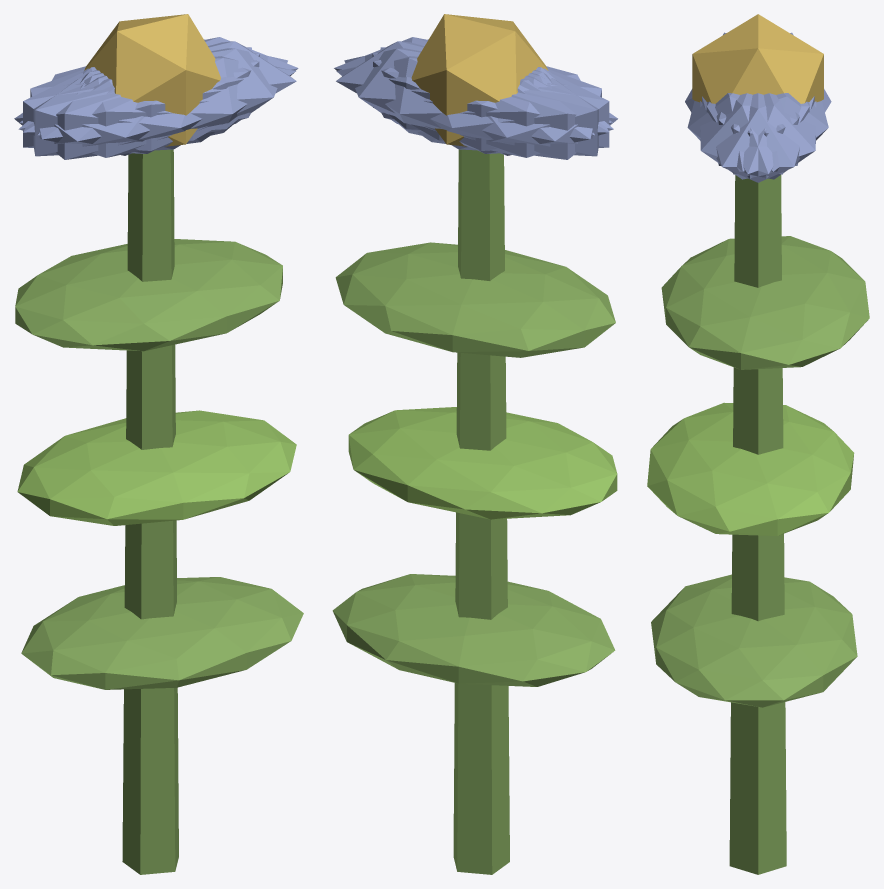
File: polyscias-fruticosa.glb
3 views of the same model, side by side, from view 1: azimuth 30°, elevation 25°; view 2: azimuth 150°, elevation 25°; view 3: azimuth 270°, elevation 25° (orthographic).
Visible parts, largest first — view 1: stem, leaf1, leaf0, leaf2, center, petal1, petal6, petal2, petal5, petal7, petal0, petal4 (+2 smaller); view 2: stem, leaf2, leaf0, leaf1, center, petal8, petal3, petal7, petal4, petal2, petal0, petal5 (+2 smaller); view 3: stem, leaf2, leaf0, leaf1, center, petal0, petal5, petal4, petal1, petal8.
Part boxes in pixels (box(x1,y1,x2,y2)): stem: box(122, 149, 178, 874); leaf1: box(17, 410, 296, 525); leaf0: box(21, 577, 303, 689); leaf2: box(15, 239, 282, 351); center: box(84, 14, 220, 146); petal1: box(18, 56, 295, 157); petal6: box(14, 68, 214, 159); petal2: box(33, 47, 251, 156); petal5: box(37, 48, 287, 150); petal7: box(23, 53, 259, 153); petal0: box(84, 41, 296, 141); petal4: box(20, 37, 298, 132); stem: box(453, 149, 509, 874); leaf2: box(335, 242, 615, 357); leaf0: box(332, 574, 615, 686); leaf1: box(348, 407, 617, 519); center: box(411, 14, 548, 146); petal8: box(336, 56, 613, 157); petal3: box(417, 68, 617, 159); petal7: box(380, 47, 598, 156); petal4: box(344, 48, 594, 150); petal2: box(372, 53, 609, 153); petal0: box(336, 41, 548, 141); petal5: box(334, 37, 612, 132); stem: box(729, 175, 786, 874); leaf2: box(661, 236, 869, 369); leaf0: box(651, 574, 857, 707); leaf1: box(647, 402, 854, 535); center: box(692, 14, 823, 103); petal0: box(702, 93, 814, 182); petal5: box(700, 93, 809, 179); petal4: box(706, 93, 816, 179); petal1: box(687, 93, 799, 171); petal8: box(716, 93, 828, 171).
Bounding box in the file's own units: 0.1452 × 0.4272 × 0.1037.
